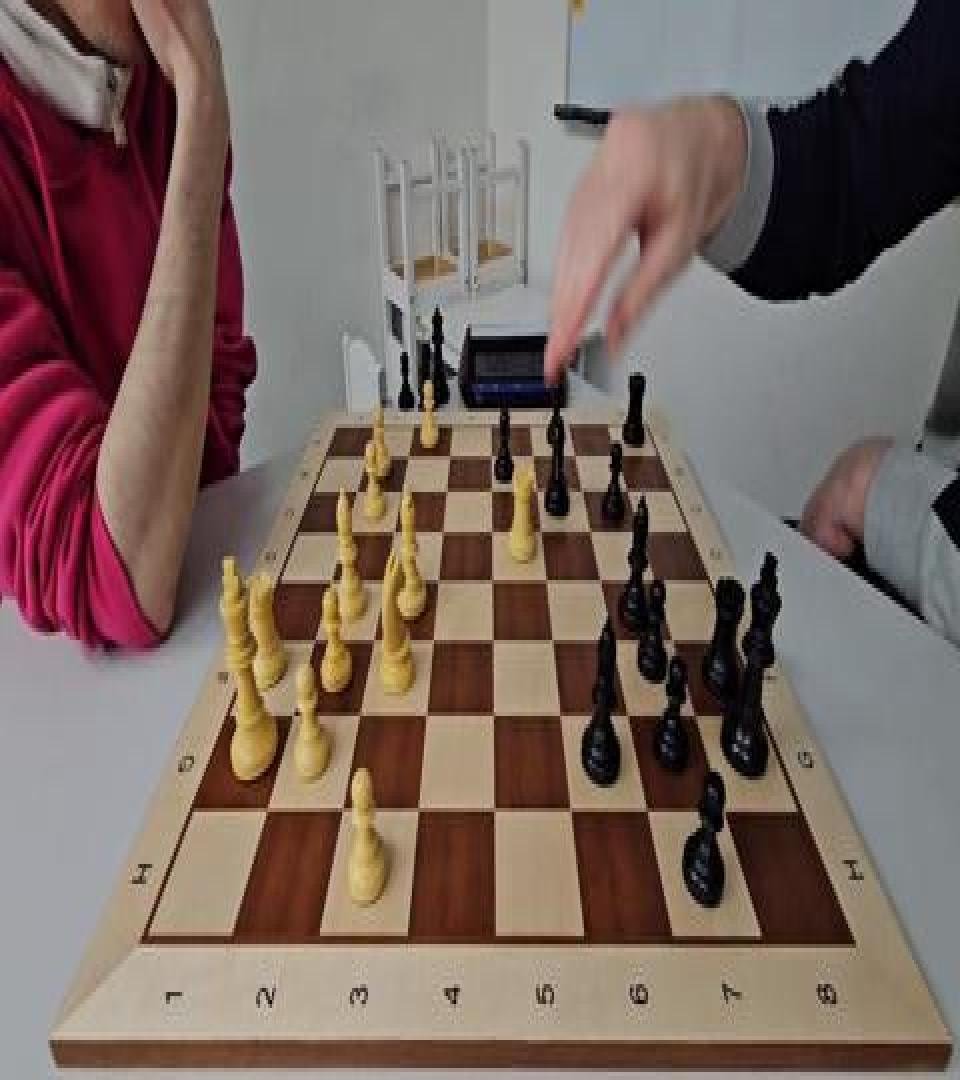xcorner: (607, 438, 623, 470), (566, 438, 582, 470), (524, 438, 540, 470), (483, 438, 499, 470), (442, 438, 458, 470), (401, 438, 417, 470), (360, 438, 376, 470), (618, 472, 634, 504), (573, 472, 589, 504), (528, 472, 544, 504), (483, 472, 499, 504), (439, 472, 455, 504), (394, 474, 410, 506), (350, 474, 366, 506), (630, 514, 646, 546), (581, 514, 597, 546), (532, 514, 548, 546), (484, 514, 500, 546), (435, 514, 451, 546), (387, 514, 403, 546), (339, 514, 355, 546), (645, 564, 661, 596), (591, 564, 607, 596), (538, 564, 554, 596), (484, 564, 500, 596), (431, 564, 447, 596), (378, 564, 394, 596), (325, 564, 341, 596), (664, 624, 680, 656), (604, 624, 620, 656), (544, 624, 560, 656), (485, 624, 501, 656), (426, 624, 442, 656), (367, 624, 383, 656), (308, 624, 324, 656), (686, 700, 702, 732), (619, 700, 635, 732), (552, 698, 568, 730), (485, 698, 501, 730), (419, 698, 435, 730), (353, 698, 369, 730), (287, 698, 303, 730), (715, 796, 731, 828), (639, 796, 655, 828), (562, 796, 578, 828), (486, 794, 502, 826), (411, 794, 427, 826), (335, 794, 351, 826), (260, 792, 276, 824)
